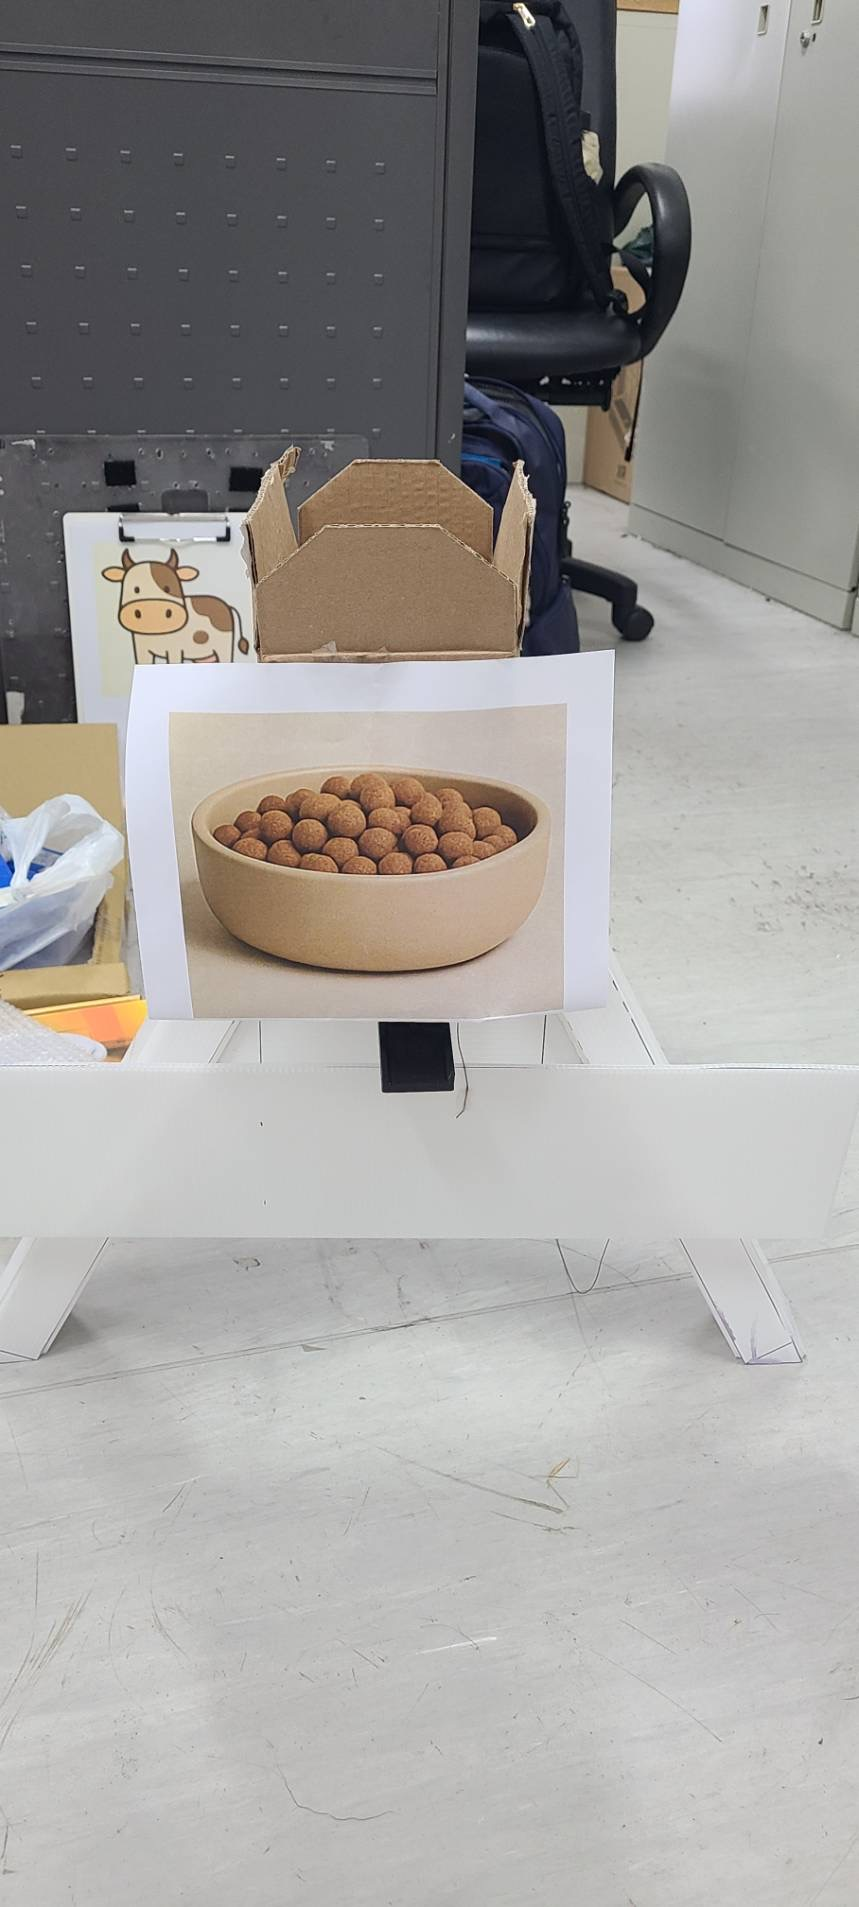cow: (80, 529, 254, 674)
